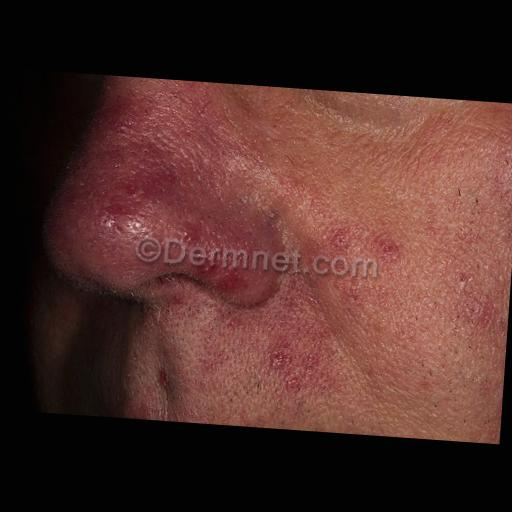Skin_Lesion: (444, 232, 501, 336), (262, 334, 336, 401), (187, 258, 254, 294), (94, 187, 146, 218), (139, 270, 177, 296), (376, 230, 404, 264), (322, 224, 358, 250), (262, 204, 286, 242), (466, 370, 492, 394), (154, 367, 176, 395), (196, 350, 218, 374), (380, 94, 414, 107)
